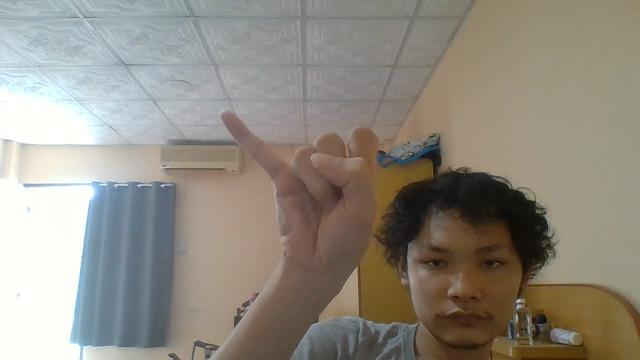Right: (219, 110, 375, 270)
